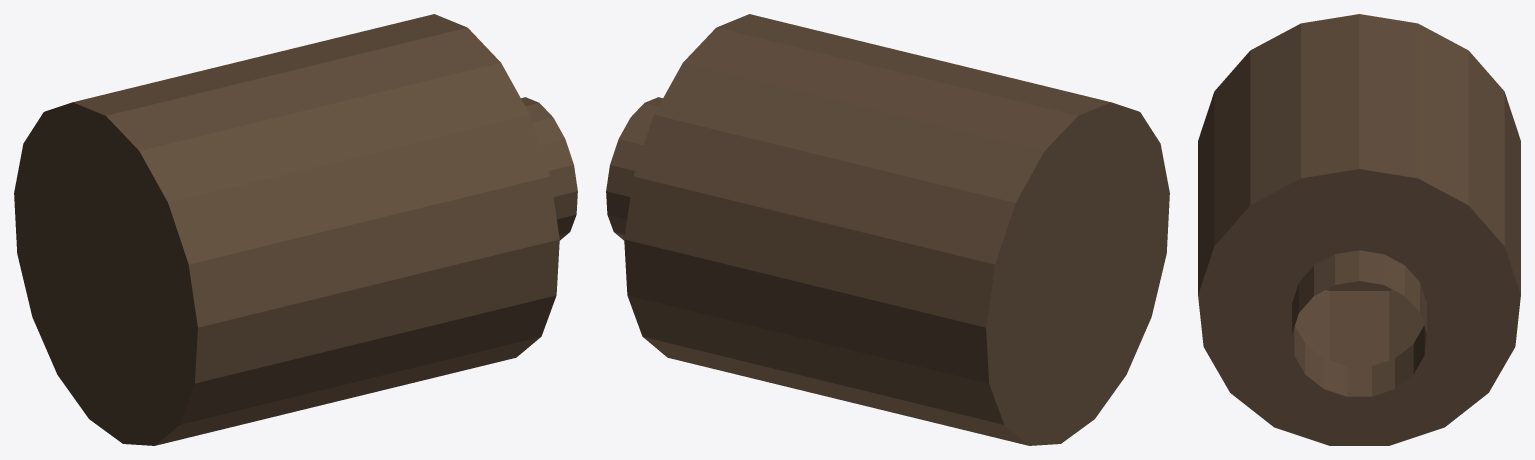
Rendered from Pump_Engine.fbx.
3 views of the same model, side by side, from view 1: azimuth 30°, elevation 25°; view 2: azimuth 150°, elevation 25°; view 3: azimuth 270°, elevation 25° (orthographic). The views are drawn at different scales.
Visible parts, largest first — view 1: WaterPump_Engine; view 2: WaterPump_Engine; view 3: WaterPump_Engine.
Part boxes in pixels (<box>): WaterPump_Engine: <box>14,14,577,445</box>; WaterPump_Engine: <box>606,14,1169,445</box>; WaterPump_Engine: <box>1198,14,1520,445</box>.
Size of the model in its own units: 26.53 by 18.46 by 19.5.
